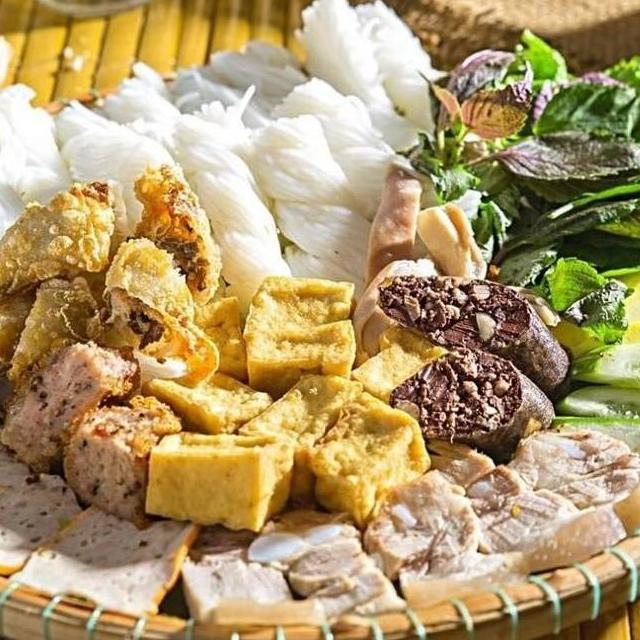bun: (0, 0, 460, 329)
bun dau: (0, 28, 640, 640)
cha gio: (0, 171, 126, 310), (122, 156, 229, 312), (79, 228, 201, 360), (0, 269, 108, 390), (0, 273, 40, 435)
dau hu: (138, 422, 302, 540), (235, 267, 362, 393), (131, 350, 289, 448)
doi sun: (371, 266, 578, 400), (373, 338, 565, 456)
thit heo: (412, 434, 632, 580), (353, 460, 532, 614), (168, 505, 353, 640), (242, 496, 415, 622), (506, 420, 640, 549)
